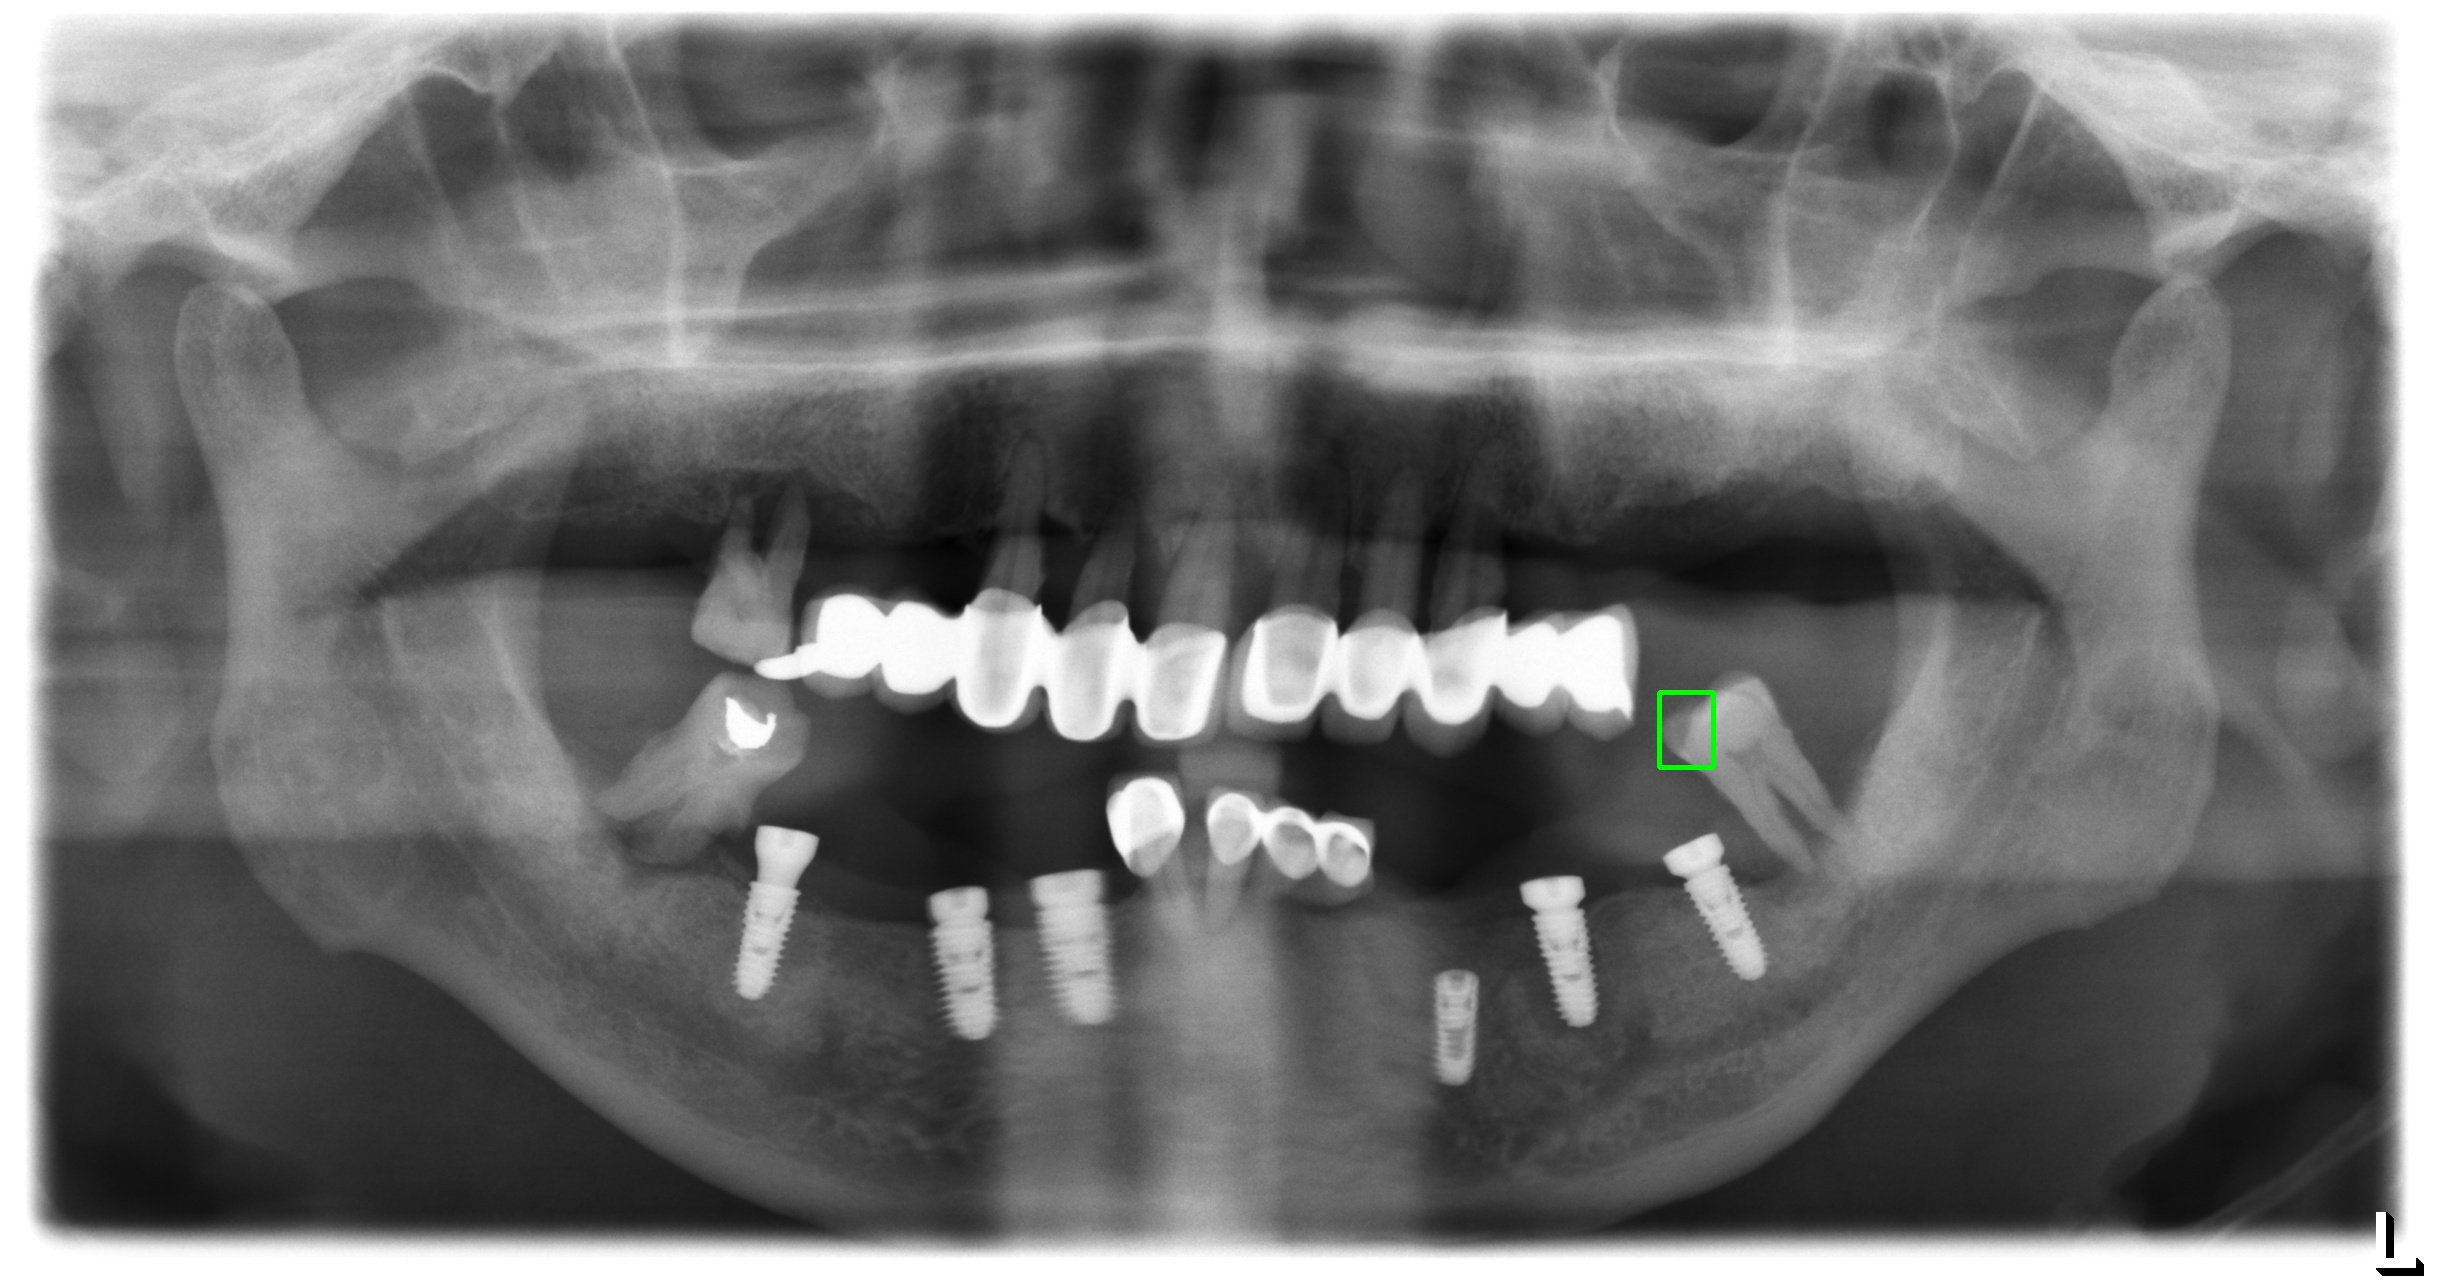Decay: (1659, 692, 1712, 767)
